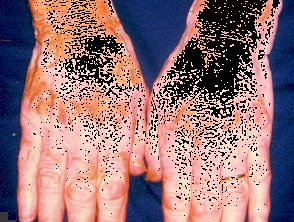vitiligo: (142, 0, 289, 222), (13, 0, 158, 222)
